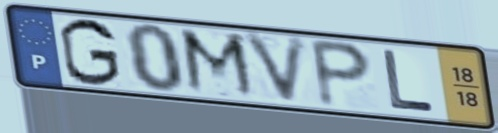0: (119, 21, 189, 95)
G: (56, 16, 124, 89)
L: (380, 47, 438, 116)
M: (176, 26, 262, 103)
P: (307, 36, 376, 111)
V: (239, 29, 312, 109)
